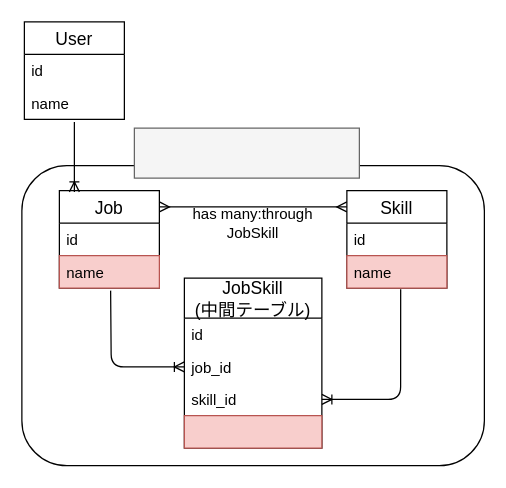
Some shapes in this 506 by 488 pixel diagram are drawn without their labels. The shapes that lost their labels are listed below. From the top down, each one's centre as x and y in pixels, then its label:
At point 246,152: "Job登録画面で、 赤の要素を一括登録したい".
At point 252,431: "score".
